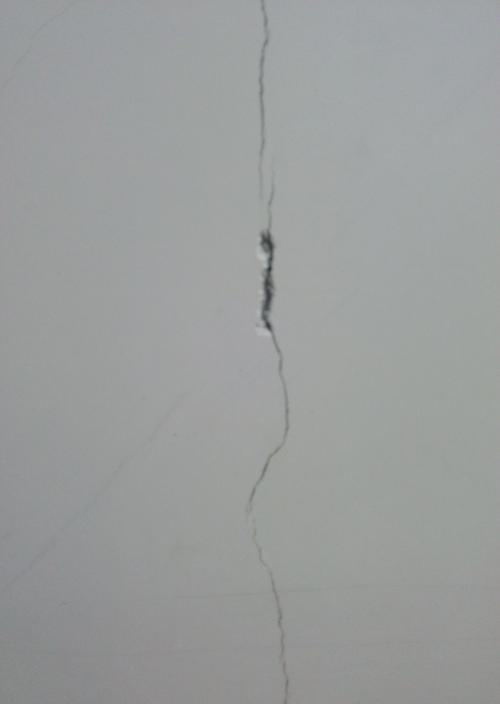Crack: (246, 1, 289, 704)
